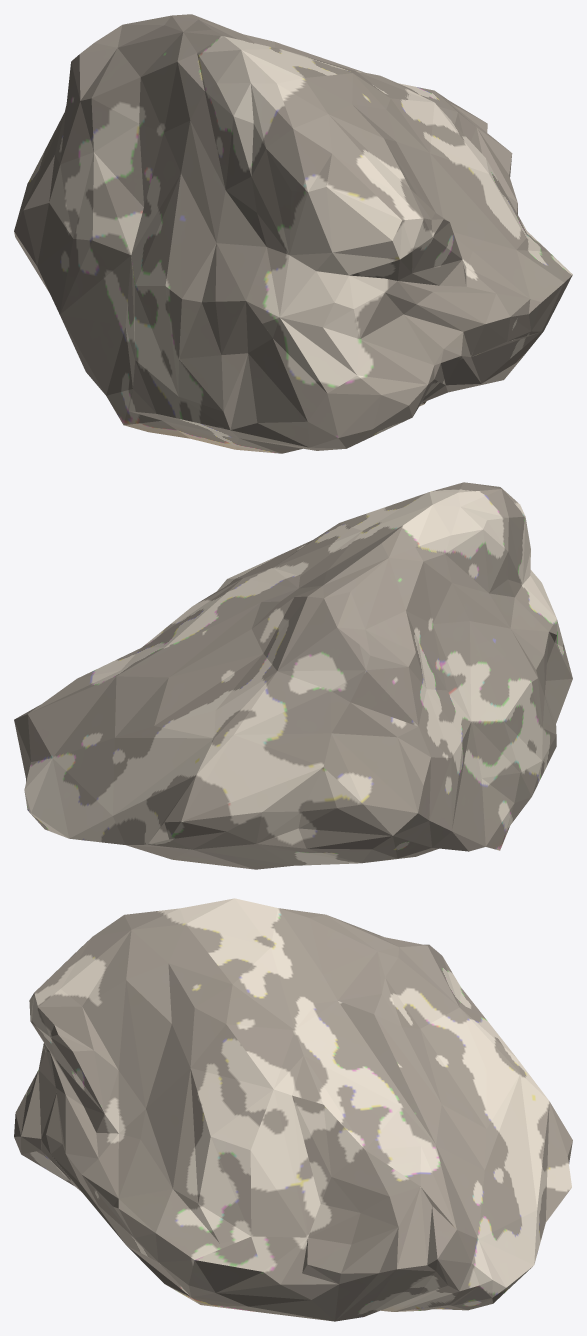
Rendered from RockGrayH.fbx.
The picture shows the model from 3 angles, top to bottom: view 1: azimuth 30°, elevation 25°; view 2: azimuth 150°, elevation 25°; view 3: azimuth 270°, elevation 25°; orthographic projection. The views are drawn at different scales.
Parts seen in each view (by area): view 1: RockGrayH; view 2: RockGrayH; view 3: RockGrayH.
Part boxes in pixels (x1,y1,x2,y2): RockGrayH: (14, 14, 572, 453); RockGrayH: (14, 482, 572, 869); RockGrayH: (14, 898, 572, 1321).
Size of the model in its own units: 2.45 by 1.93 by 3.
1 material, 1 textured.
